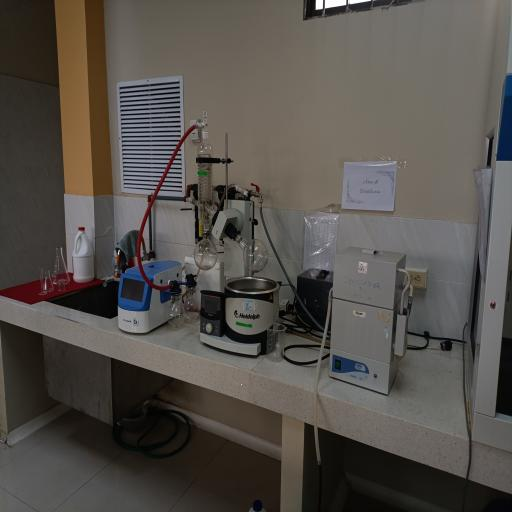Destilador_agua: (319, 234, 418, 408)
